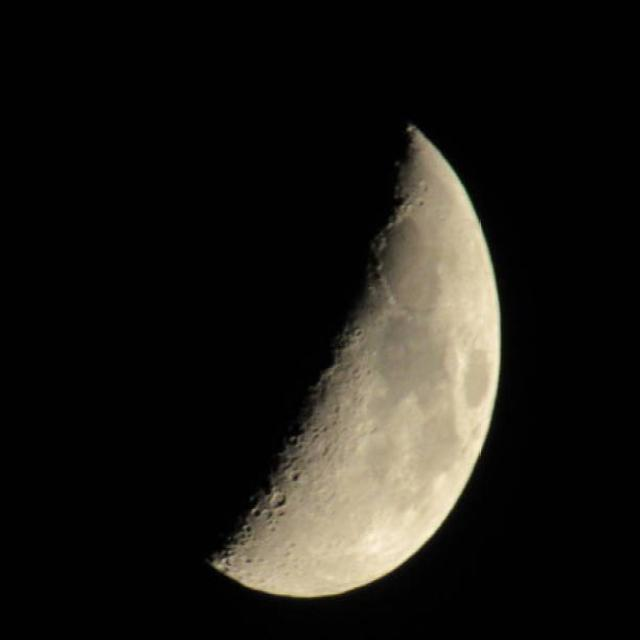moon: (148, 120, 501, 598)
